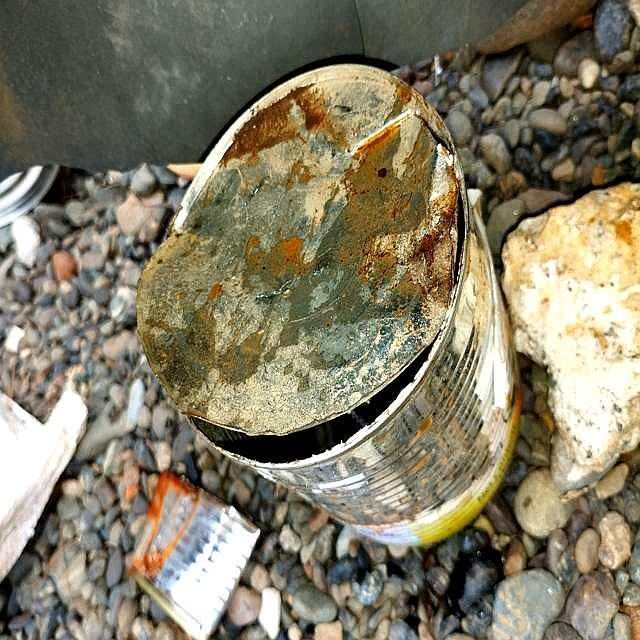Non-biodegradable: (137, 63, 527, 555), (126, 463, 267, 640)
